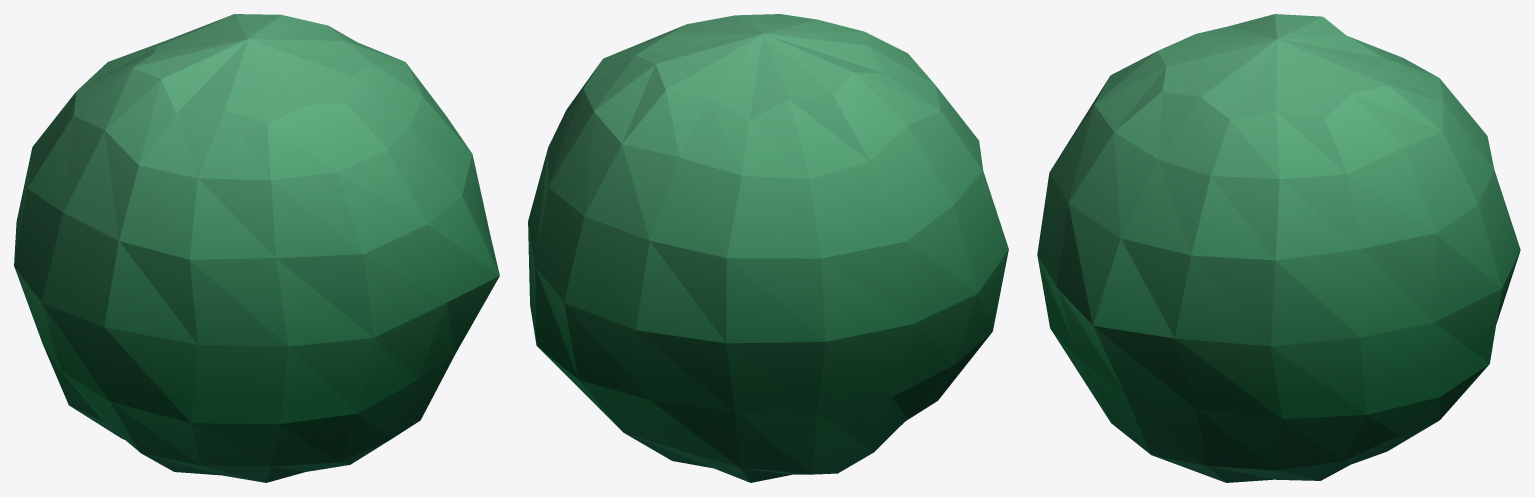
Rendered from Desert_Plant_08_Small_0_1.fbx.
3 renders of one model, left to right at view 1: azimuth 30°, elevation 25°; view 2: azimuth 150°, elevation 25°; view 3: azimuth 270°, elevation 25°, orthographic.
Visible parts, largest first — view 1: Desert_plant_009.001; view 2: Desert_plant_009.001; view 3: Desert_plant_009.001.
Part boxes in pixels (x1=…): Desert_plant_009.001: x1=14, y1=14, x2=499, y2=482; Desert_plant_009.001: x1=528, y1=14, x2=1008, y2=482; Desert_plant_009.001: x1=1037, y1=14, x2=1520, y2=482.
Bounding box in the file's own units: 119 × 107 × 119.
